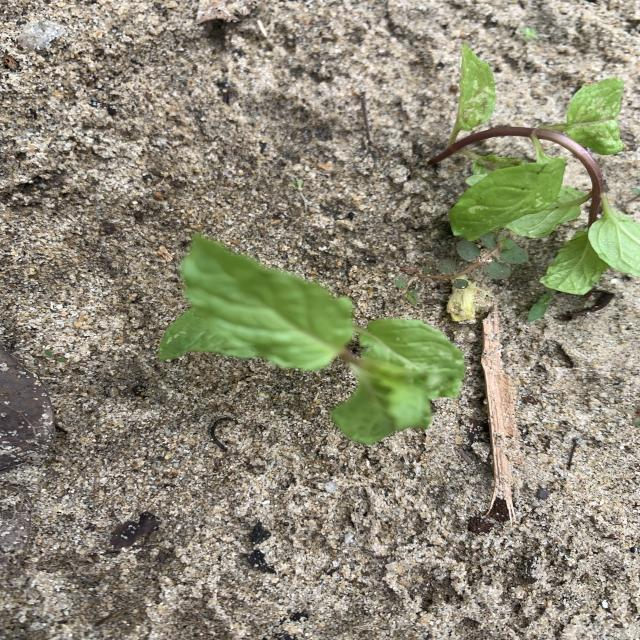crop: (158, 234, 464, 443), (428, 45, 640, 294)
weed: (394, 232, 528, 305), (527, 289, 555, 322), (516, 27, 539, 40)
